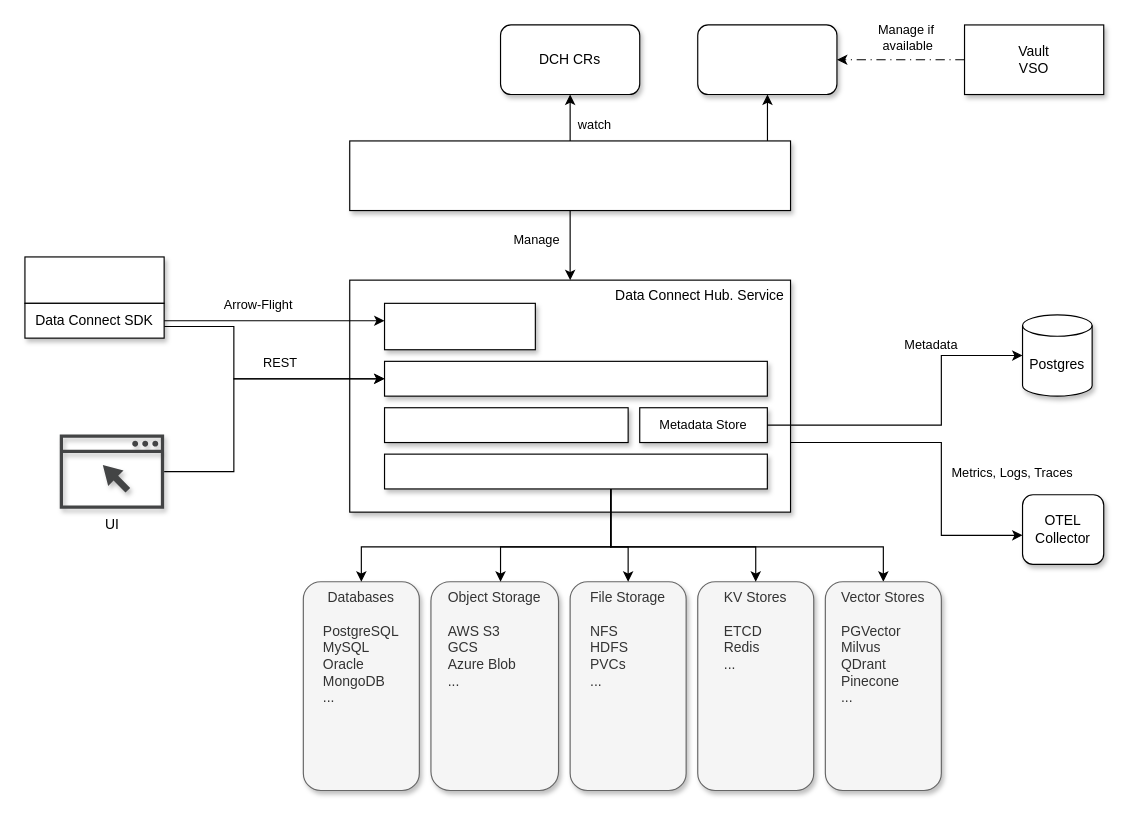
The diagram is 1131 pixels wide and 819 high, and some of its shapes have lost their labels. Each missing label, with the centre of its shape:
"Clients CLI, 3rd party apps" goes at point 95,281.
"Connectors" goes at point 576,472.
"Credentials Secret" goes at point 768,61.
"Data Connect Hub Operator" goes at point 571,177.
"Engine" goes at point 507,426.
"gRPC Apache Arrow-Flight" goes at point 460,328.
"REST APIs" goes at point 576,380.
